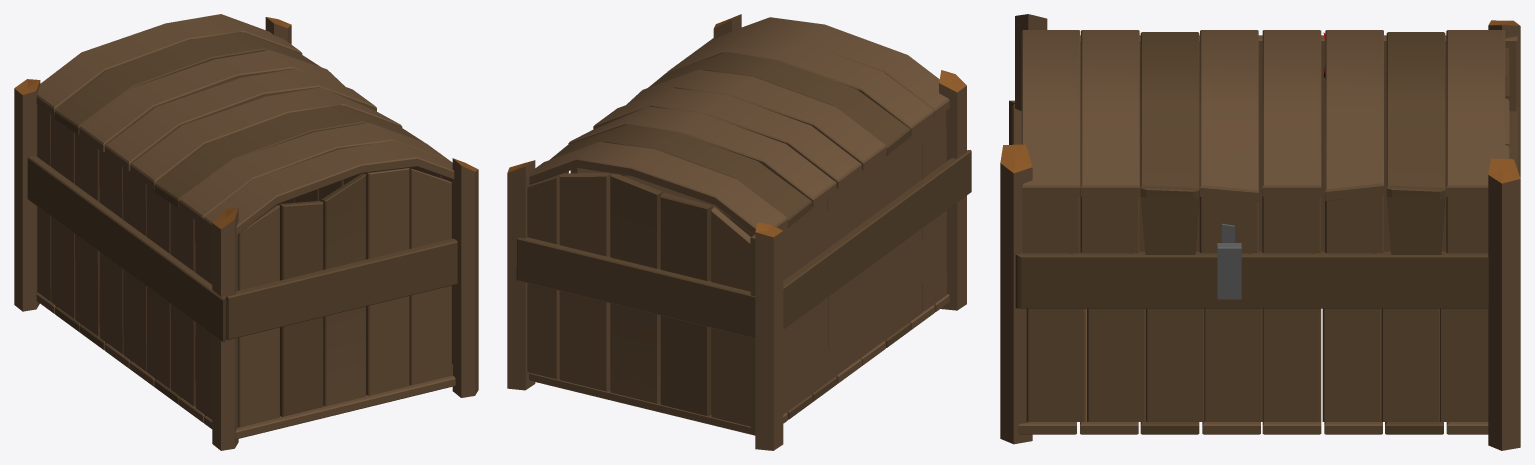
Rendered from Chest.fbx.
The picture shows the model from 3 angles, left to right: view 1: azimuth 30°, elevation 25°; view 2: azimuth 150°, elevation 25°; view 3: azimuth 270°, elevation 25°; orthographic projection. The views are drawn at different scales.
Parts seen in each view (by area): view 1: pPyramid16; view 2: pPyramid16; view 3: pPyramid16.
Boxes of the visible parts, left/top/right/bottom form: pPyramid16: left=14, top=14, right=478, bottom=450; pPyramid16: left=507, top=14, right=971, bottom=450; pPyramid16: left=1000, top=14, right=1520, bottom=450.
Bounding box in the file's own units: 84.23 × 73.75 × 113.
